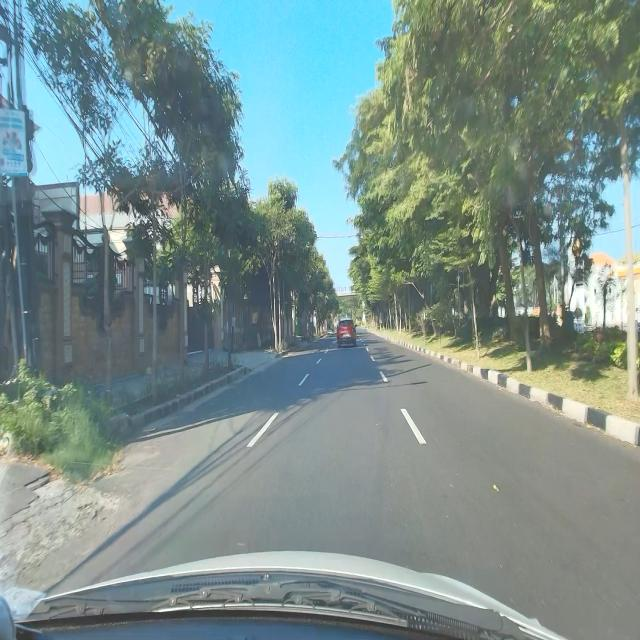car: (336, 317, 357, 347)
